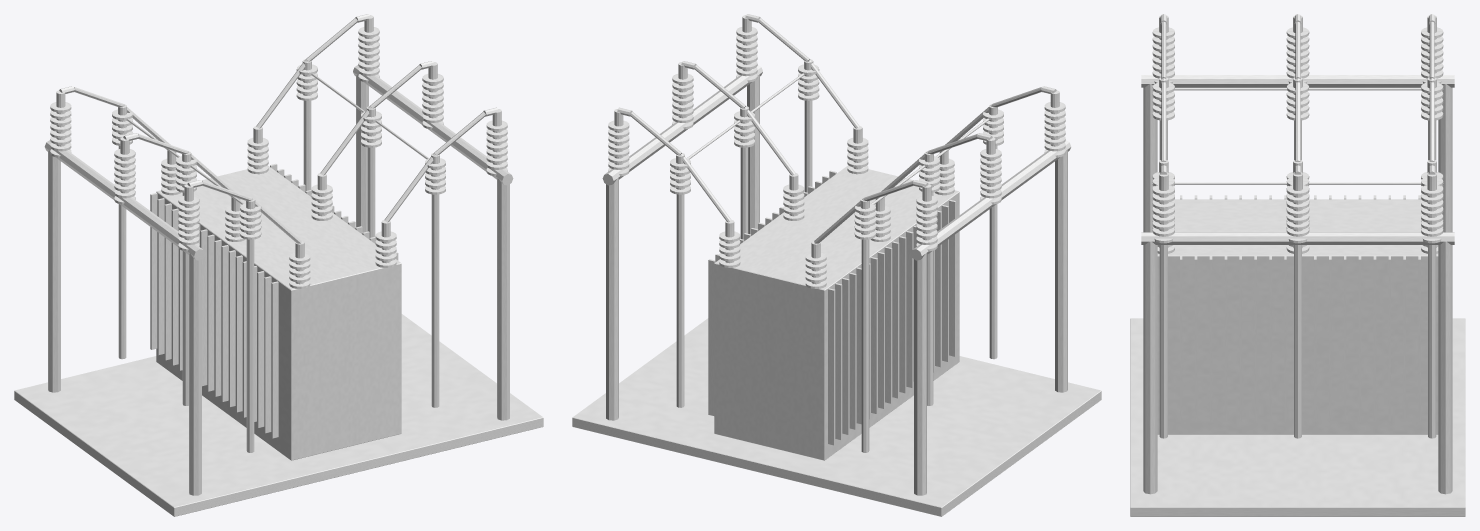
The model's file is substation69125.obj.
3 renders of one model, left to right at view 1: azimuth 30°, elevation 25°; view 2: azimuth 150°, elevation 25°; view 3: azimuth 270°, elevation 25°, orthographic. The views are drawn at different scales.
Visible parts, largest first — view 1: main, Transformer, Porcelain, Bus, KnifeOut, KnifeIn; view 2: main, Transformer, Porcelain, Bus, KnifeOut, KnifeIn; view 3: Transformer, main, Porcelain, Bus, KnifeIn.
Part boxes in pixels (x1,y1,x2,y2): main: [14, 65, 543, 516]; Transformer: [150, 163, 401, 460]; Porcelain: [50, 15, 507, 288]; Bus: [59, 14, 498, 243]; KnifeOut: [306, 18, 485, 155]; KnifeIn: [74, 87, 251, 201]; main: [572, 65, 1101, 516]; Transformer: [708, 165, 959, 460]; Porcelain: [608, 15, 1065, 288]; Bus: [617, 14, 1056, 243]; KnifeOut: [630, 18, 809, 155]; KnifeIn: [864, 87, 1041, 201]; Transformer: [1157, 195, 1438, 434]; main: [1130, 75, 1465, 516]; Porcelain: [1152, 15, 1443, 253]; Bus: [1160, 14, 1435, 174]; KnifeIn: [1161, 22, 1434, 78].
Bounding box in the file's own units: 6 × 4.88 × 4.5.
